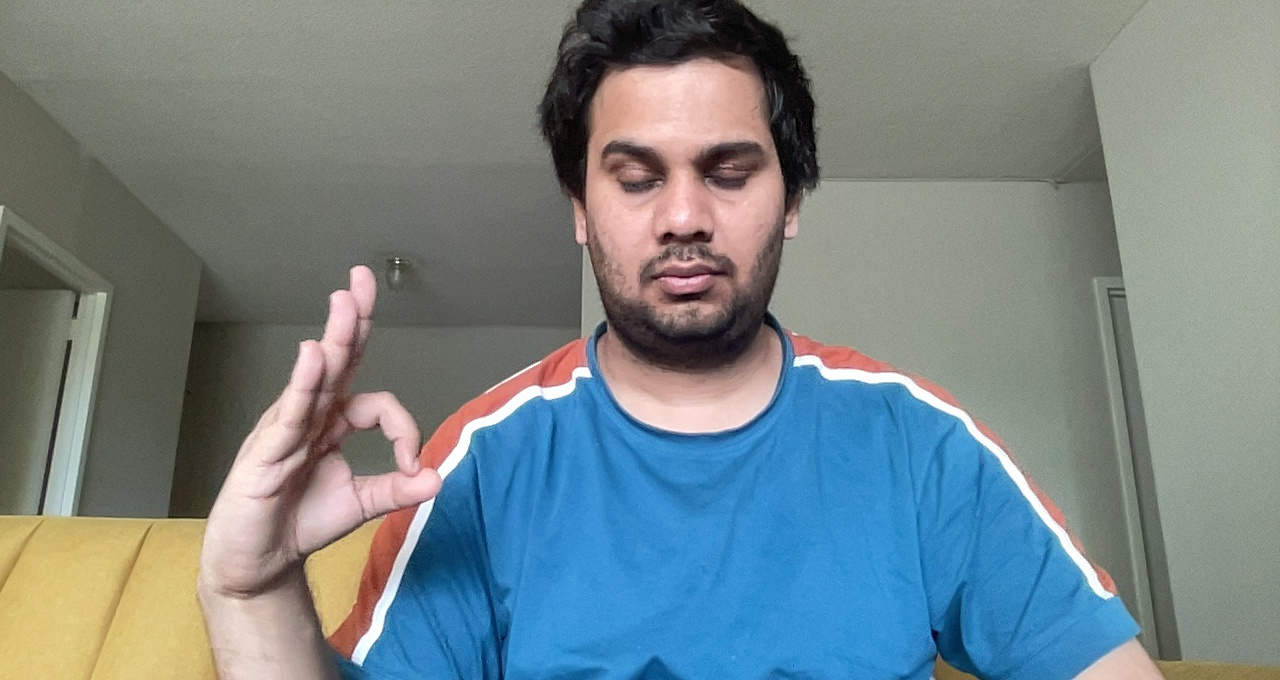ok: (208, 259, 454, 575)
